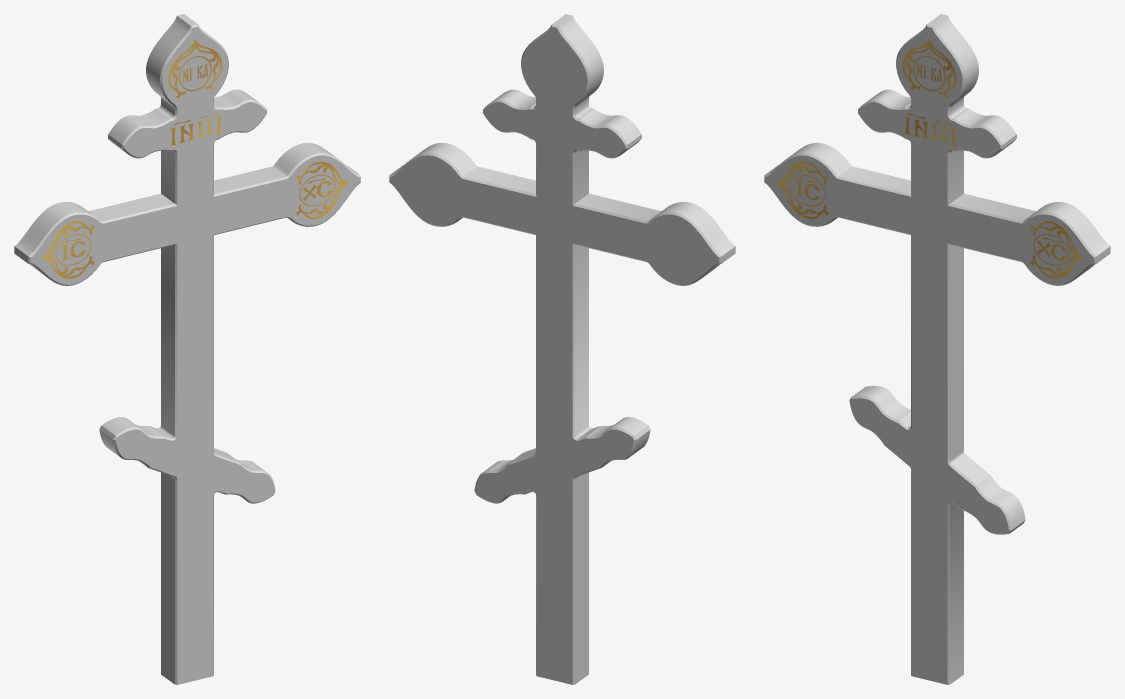
The model's file is cn09c646202a_tkf.glb.
3 renders of one model, left to right at view 1: azimuth 30°, elevation 25°; view 2: azimuth 150°, elevation 25°; view 3: azimuth 330°, elevation 25°, orthographic.
Parts seen in each view (by area): view 1: Krest-derevo-004, Krest-derevo-004_2_notexture; view 2: Krest-derevo-004; view 3: Krest-derevo-004, Krest-derevo-004_2_notexture.
Boxes of the visible parts, bbox=[...] form: Krest-derevo-004: bbox=[14, 14, 360, 684]; Krest-derevo-004_2_notexture: bbox=[41, 38, 349, 278]; Krest-derevo-004: bbox=[389, 14, 735, 684]; Krest-derevo-004: bbox=[764, 14, 1110, 684]; Krest-derevo-004_2_notexture: bbox=[775, 38, 1083, 278].
Size of the model in its own units: 0.85 by 1.6 by 0.07.
Materials: 1 (1 with a texture image).
